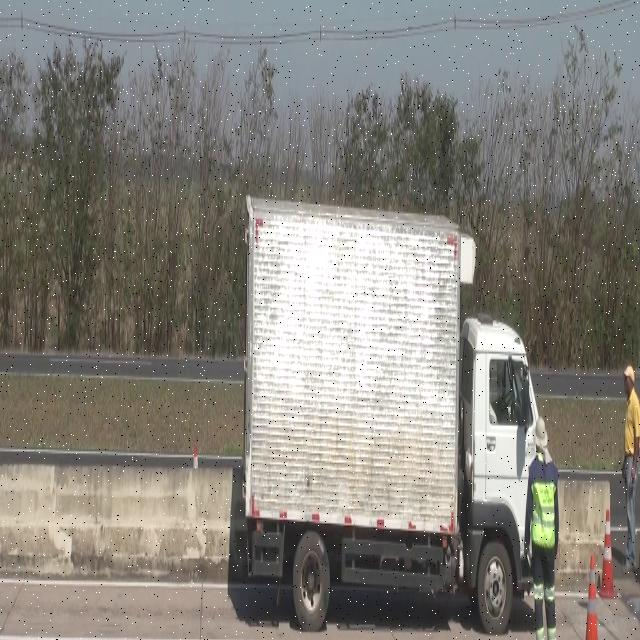-axle: (294, 531, 329, 631), (478, 540, 514, 634)
